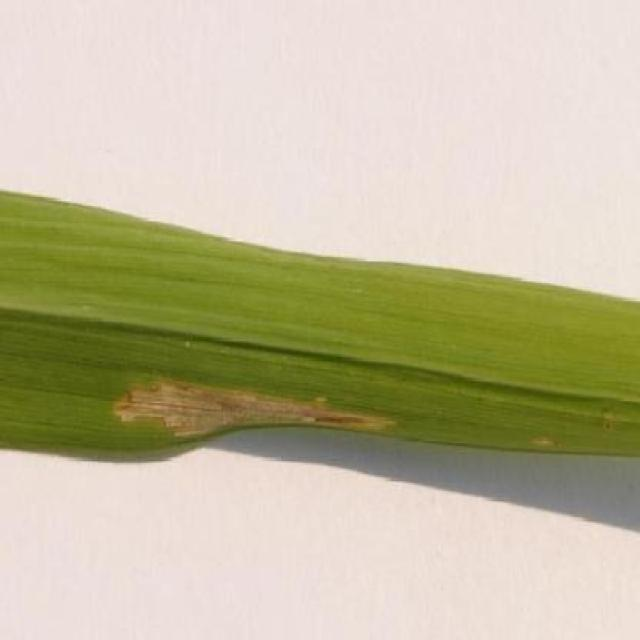Brown_Spot: (1, 137, 640, 503), (101, 357, 410, 471)
